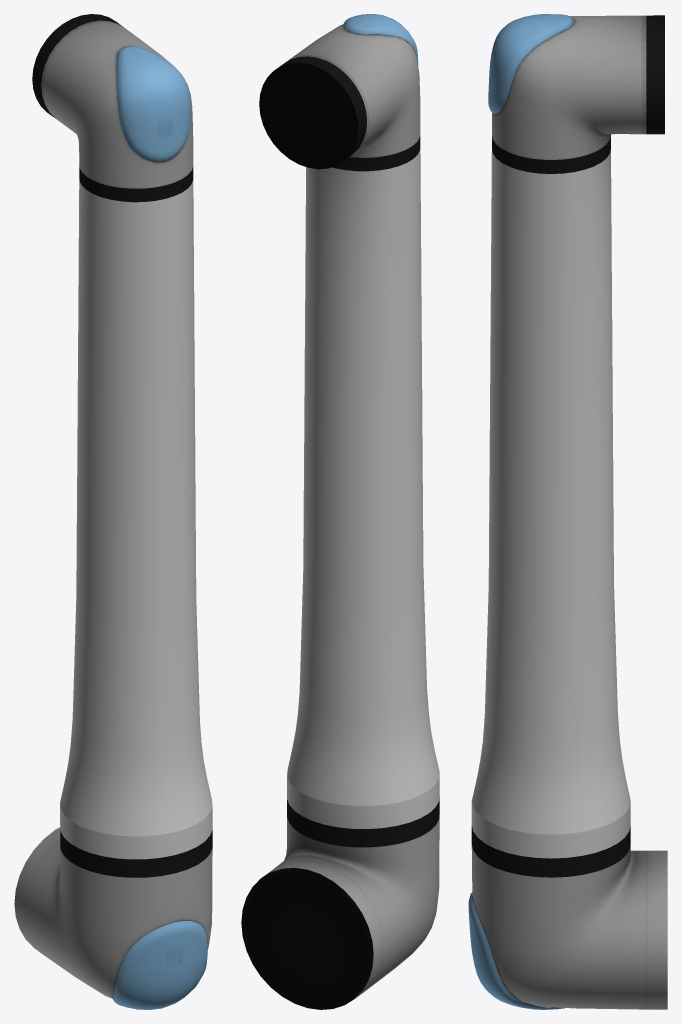
Rendered from forearm.dae.
The picture shows the model from 3 angles, left to right: view 1: azimuth 30°, elevation 25°; view 2: azimuth 150°, elevation 25°; view 3: azimuth 270°, elevation 25°; orthographic projection. The views are drawn at different scales.
Parts seen in each view (by area): view 1: elbow_002, elbow_pad_003, elbow_pad_004; view 2: elbow_002, elbow_pad_003; view 3: elbow_002, elbow_pad_003, elbow_pad_004.
Part boxes in pixels (<box>): elbow_002: <box>14,14,212,998</box>; elbow_pad_003: <box>116,45,191,162</box>; elbow_pad_004: <box>112,921,207,1009</box>; elbow_002: <box>241,24,439,1009</box>; elbow_pad_003: <box>343,14,418,65</box>; elbow_002: <box>471,15,667,1009</box>; elbow_pad_003: <box>488,14,574,113</box>; elbow_pad_004: <box>468,892,564,1009</box>.
Size of the model in its own units: 0.1205 by 0.1508 by 0.8246.
Materials: 4 (4 with a texture image).
